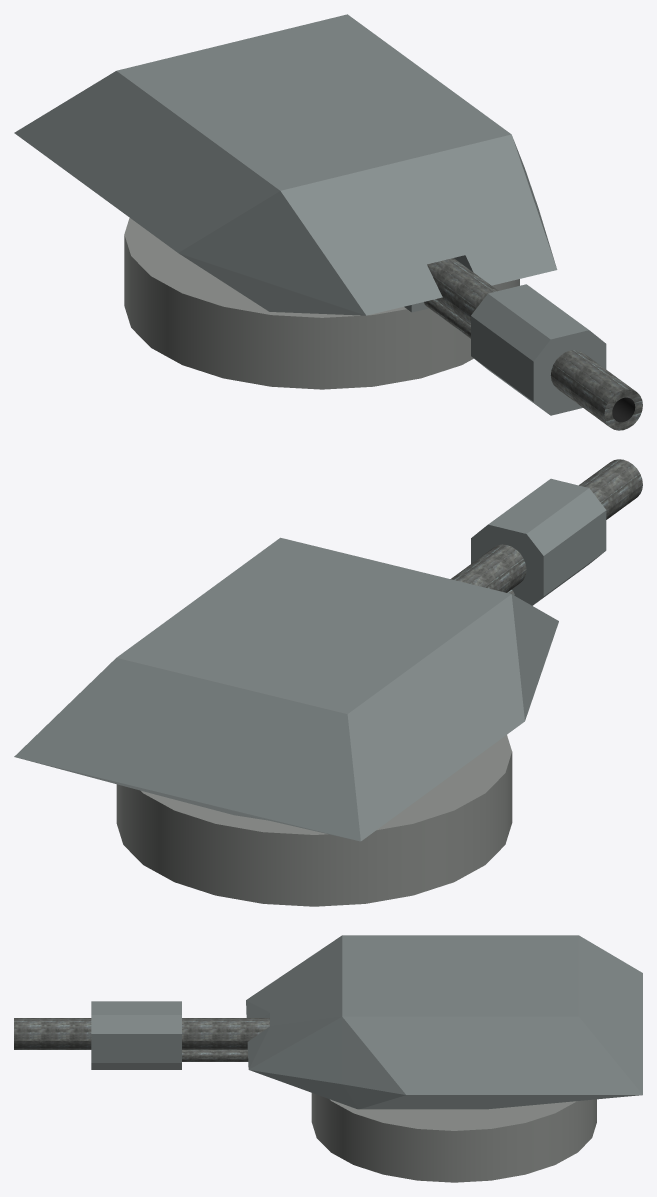
The model's file is 散弹枪shotgun[武器].fbx.
The picture shows the model from 3 angles, top to bottom: view 1: azimuth 30°, elevation 25°; view 2: azimuth 150°, elevation 25°; view 3: azimuth 270°, elevation 25°; orthographic projection. The views are drawn at different scales.
Parts seen in each view (by area): view 1: Group1, Group2, Group3; view 2: Group1, Group2, Group3; view 3: Group1, Group2, Group3.
Boxes of the visible parts, x1=… form: Group1: x1=14, y1=14, x2=642, y2=430; Group2: x1=124, y1=218, x2=519, y2=389; Group3: x1=471, y1=284, x2=606, y2=415; Group1: x1=14, y1=459, x2=642, y2=841; Group2: x1=116, y1=735, x2=512, y2=906; Group3: x1=471, y1=478, x2=606, y2=605; Group1: x1=14, y1=935, x2=642, y2=1109; Group2: x1=311, y1=1093, x2=596, y2=1182; Group3: x1=91, y1=1001, x2=181, y2=1069.
Size of the model in its own units: 1.53 by 0.8421 by 3.31.
